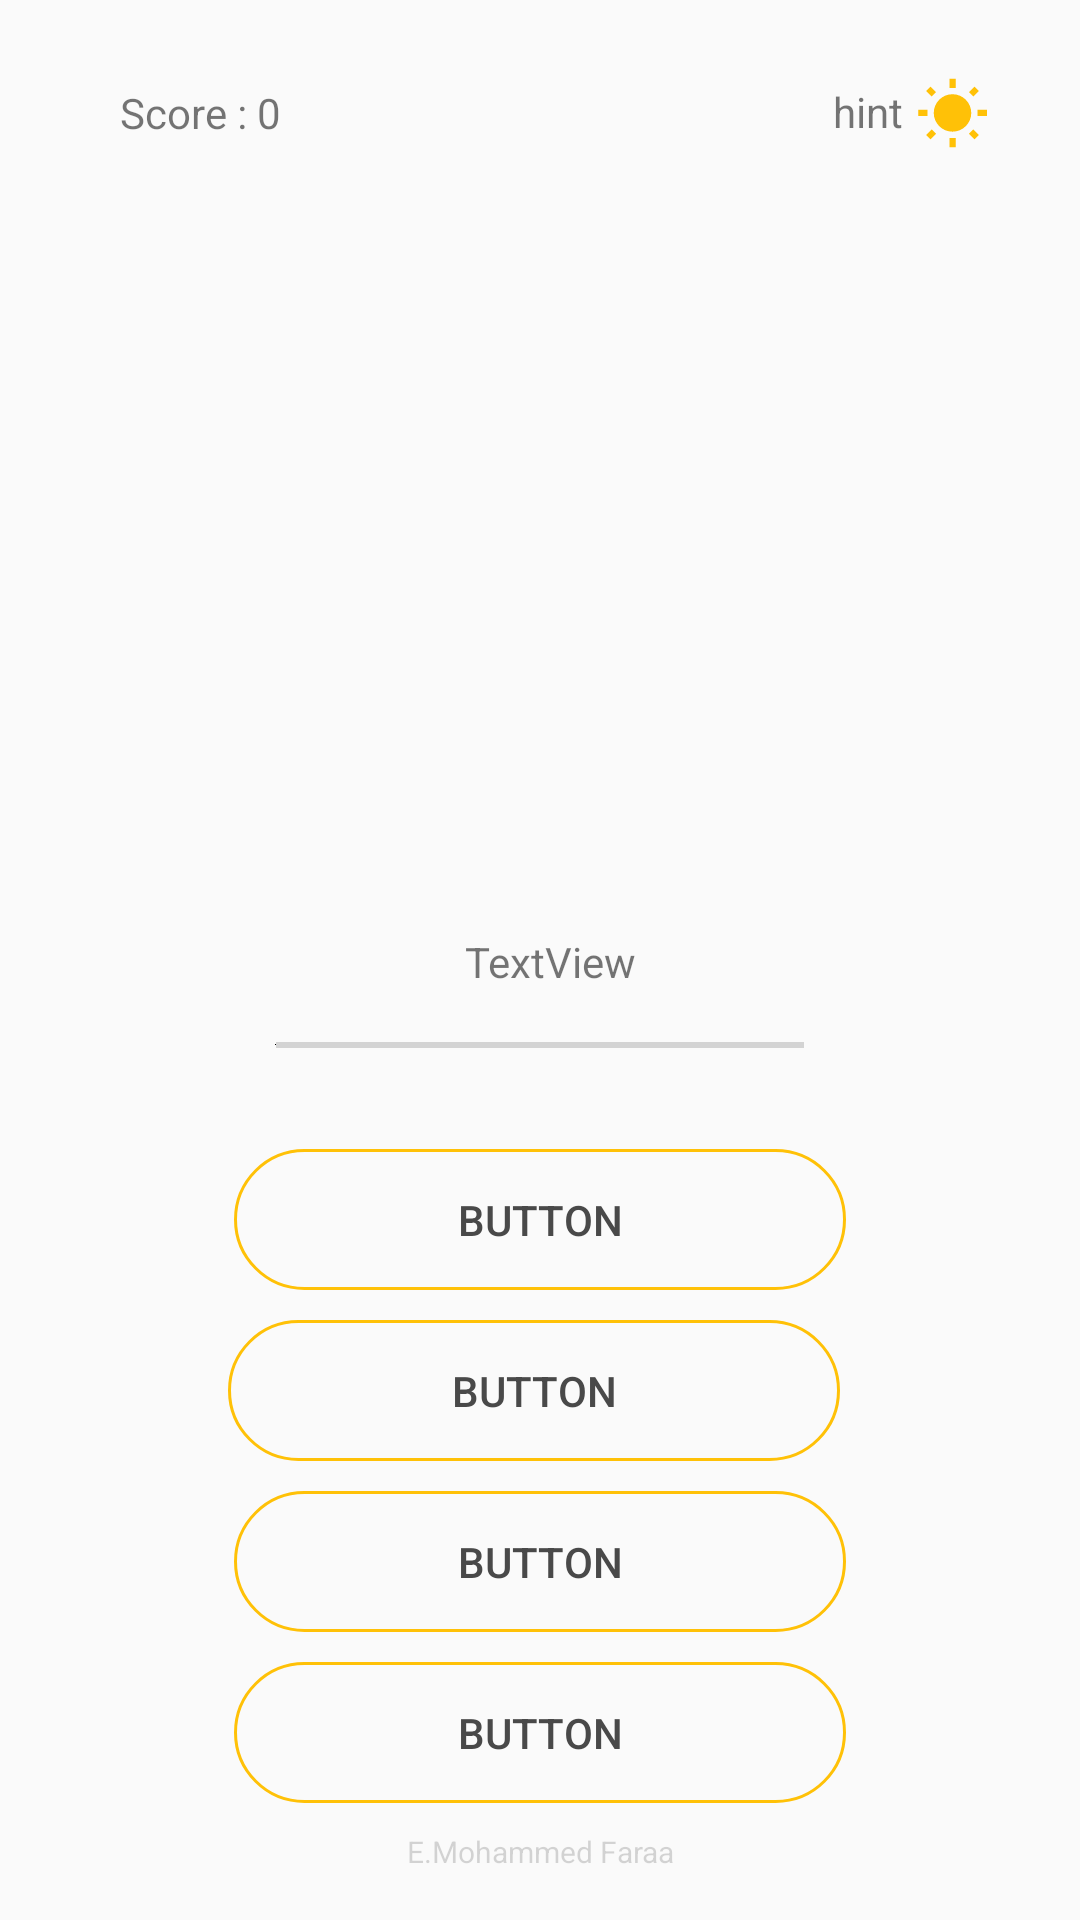

Screen size 1080×1920. Icon name, then its center in pixels as (x=x, y=y):
sunny: (x=952, y=113)
